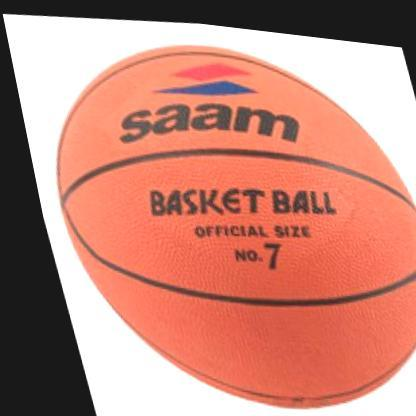basketball: (7, 9, 416, 416)
